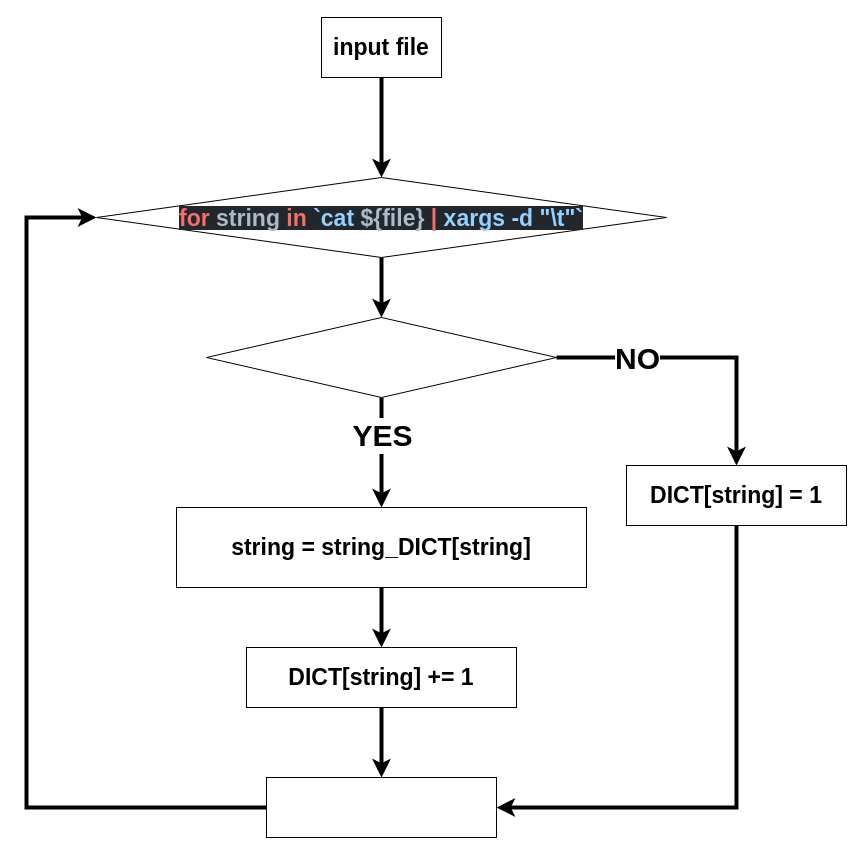
Some shapes in this 864 by 855 pixel diagram are drawn without their labels. Here are the shapes that lost their labels. From the top down, the centre of each, then its label:
[381,357]: if string in DICT
[381,807]: ARRAY+=${string}
